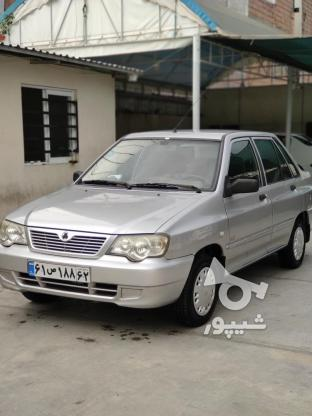car: (26, 258, 91, 282)
